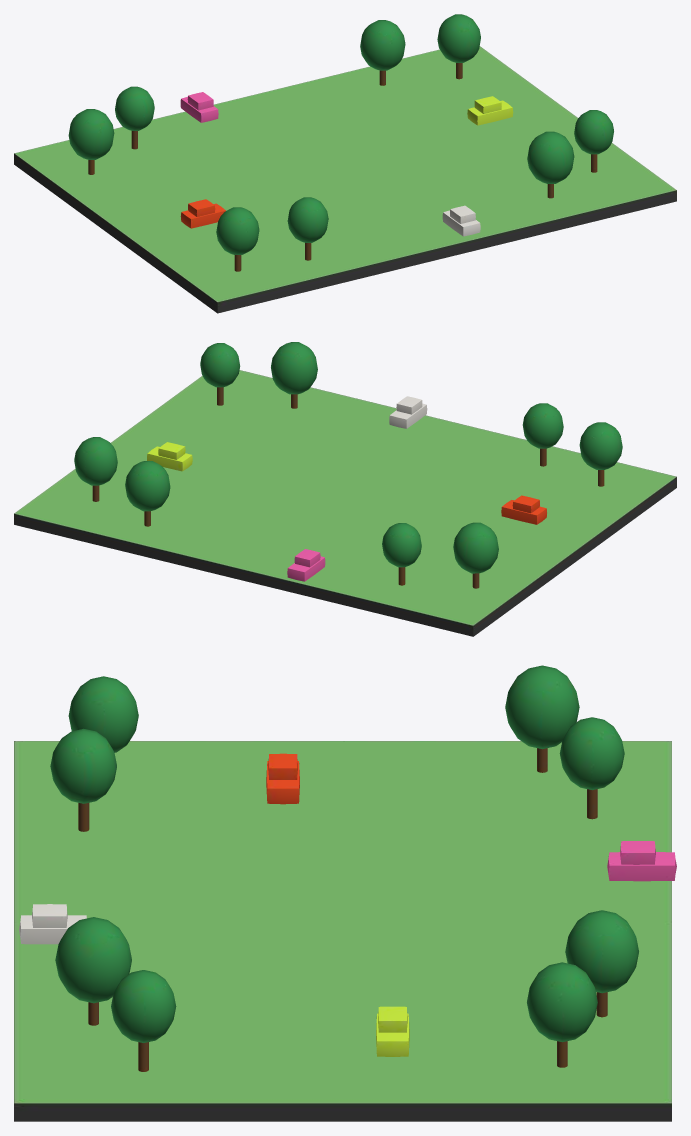
Rendered from entorno.glb.
The picture shows the model from 3 angles, top to bottom: view 1: azimuth 30°, elevation 25°; view 2: azimuth 150°, elevation 25°; view 3: azimuth 270°, elevation 25°; orthographic projection. The views are drawn at different scales.
Parts seen in each view (by area): view 1: entorno; view 2: entorno; view 3: entorno.
Boxes of the visible parts, left/top/right/bottom form: entorno: left=14, top=14, right=676, bottom=313; entorno: left=14, top=342, right=676, bottom=636; entorno: left=14, top=665, right=676, bottom=1121.
Size of the model in its own units: 0.86 by 0.1343 by 0.665.
Materials: 1 (1 with a texture image).
